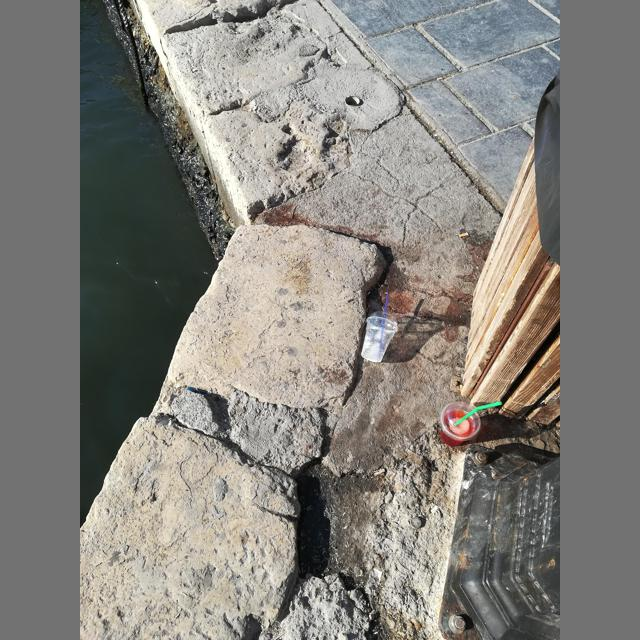litter: (439, 401, 481, 447), (361, 311, 398, 362), (439, 401, 481, 441), (454, 401, 502, 426), (379, 294, 389, 354), (367, 311, 398, 329), (458, 232, 469, 237), (437, 76, 445, 81), (460, 385, 463, 395)
